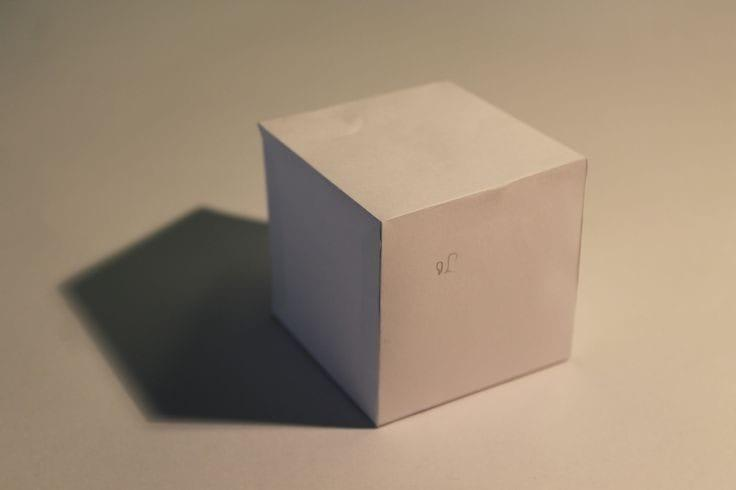cubos: (253, 73, 600, 435)
